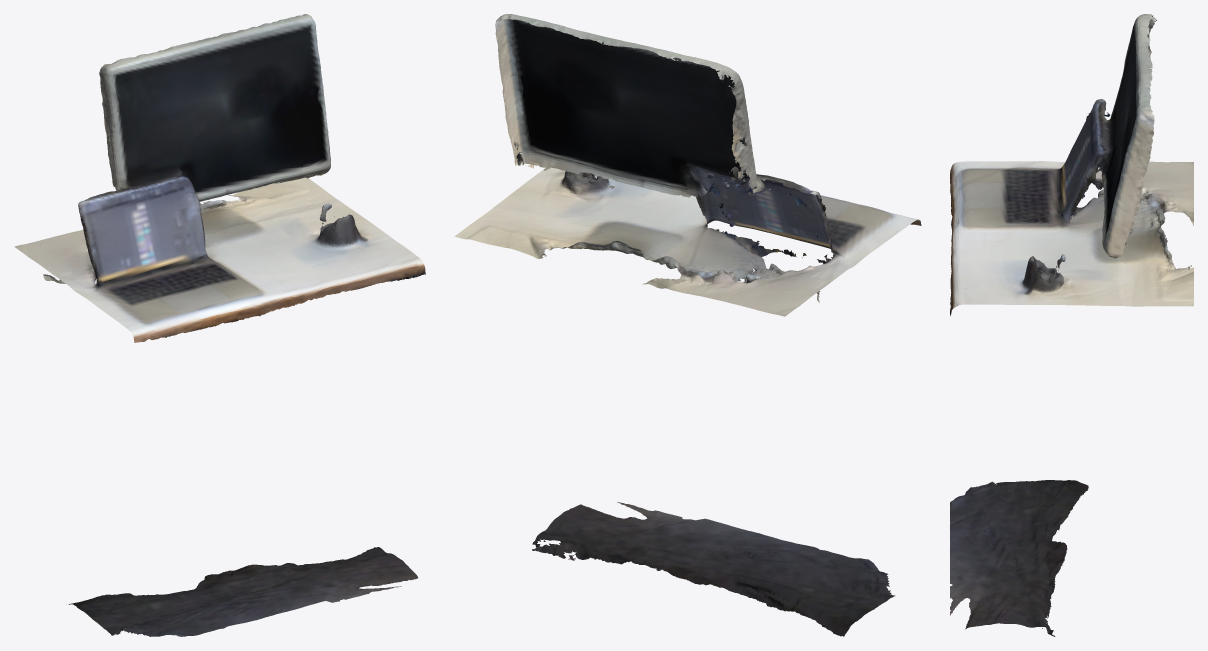
File: scaniverse-20211109-135907.fbx
3 views of the same model, side by side, from view 1: azimuth 30°, elevation 25°; view 2: azimuth 150°, elevation 25°; view 3: azimuth 270°, elevation 25° (orthographic). The views are drawn at different scales.
Parts seen in each view (by area): view 1: mesh; view 2: mesh; view 3: mesh.
Boxes of the visible parts, x1=… form: mesh: x1=14, y1=14, x2=425, y2=636; mesh: x1=454, y1=14, x2=921, y2=636; mesh: x1=950, y1=14, x2=1193, y2=636.
Size of the model in its own units: 0.7448 by 1.26 by 0.5337.
Materials: 1 (1 with a texture image).
